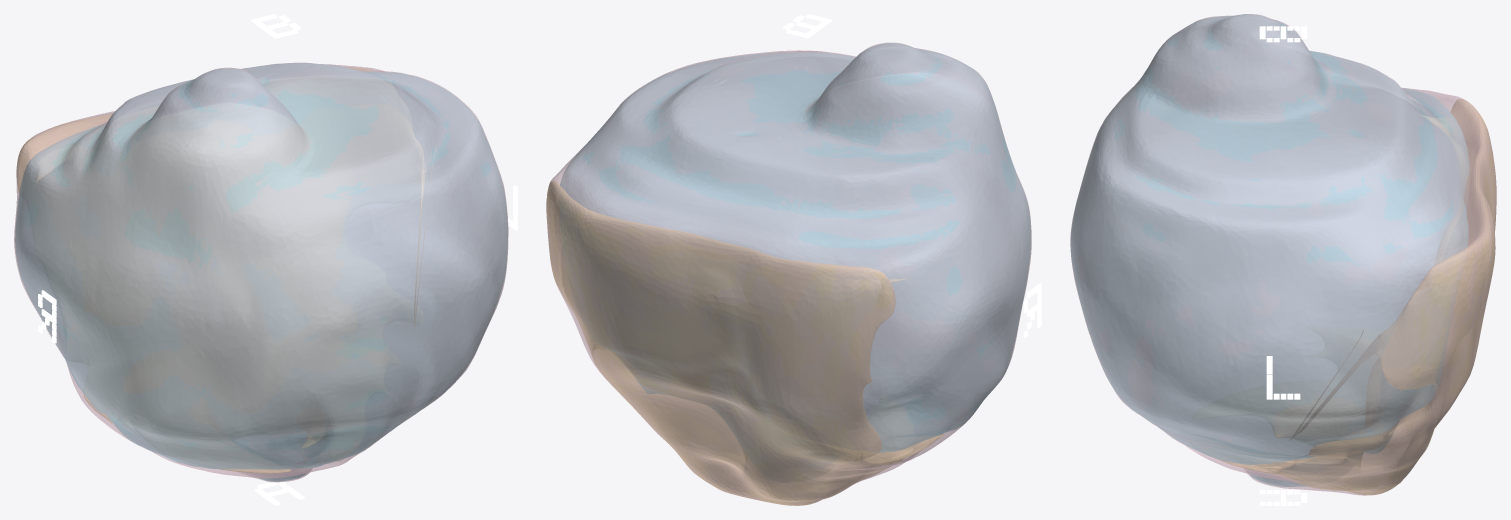
The picture shows the model from 3 angles, left to right: view 1: azimuth 30°, elevation 25°; view 2: azimuth 150°, elevation 25°; view 3: azimuth 270°, elevation 25°; orthographic projection.
Visible parts, largest first — view 1: prostate_gland, transition_zone, peripheral_zone, pv_ar_marker_B, pv_ar_marker_R; view 2: prostate_gland, transition_zone, peripheral_zone, pv_ar_marker_B; view 3: prostate_gland, transition_zone, peripheral_zone, pv_ar_marker_B, pv_ar_marker_A, pv_ar_marker_L.
Part boxes in pixels (x1=…): prostate_gland: x1=14, y1=62, x2=508, y2=482; transition_zone: x1=15, y1=63, x2=507, y2=481; peripheral_zone: x1=16, y1=67, x2=435, y2=473; pv_ar_marker_B: x1=251, y1=14, x2=300, y2=38; pv_ar_marker_R: x1=38, y1=290, x2=56, y2=343; prostate_gland: x1=546, y1=42, x2=1031, y2=505; transition_zone: x1=560, y1=43, x2=1031, y2=452; peripheral_zone: x1=546, y1=181, x2=943, y2=505; pv_ar_marker_B: x1=783, y1=14, x2=831, y2=38; prostate_gland: x1=1070, y1=14, x2=1496, y2=495; transition_zone: x1=1070, y1=14, x2=1469, y2=486; peripheral_zone: x1=1215, y1=99, x2=1496, y2=495; pv_ar_marker_B: x1=1259, y1=26, x2=1307, y2=42; pv_ar_marker_A: x1=1259, y1=490, x2=1307, y2=505; pv_ar_marker_L: x1=1266, y1=356, x2=1300, y2=399.
Size of the model in its own units: 0.0852 by 0.0825 by 0.0685.
